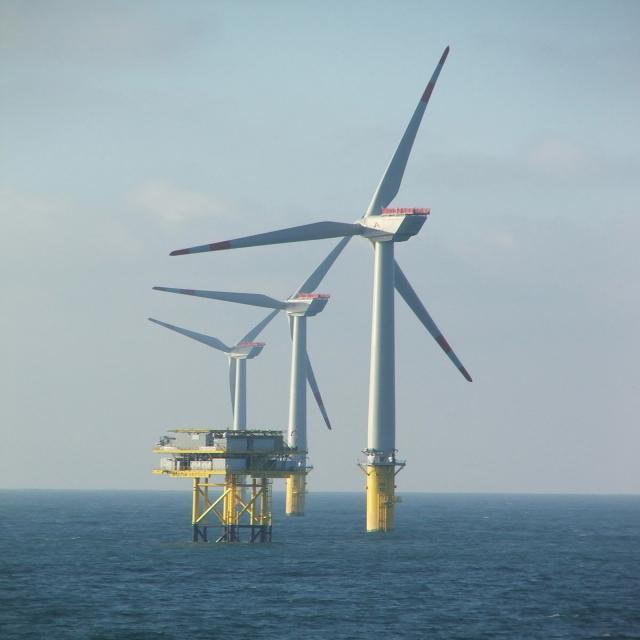solid-blade: (366, 46, 448, 217), (394, 261, 472, 381), (170, 221, 365, 256), (154, 288, 288, 309), (149, 318, 231, 352), (307, 354, 331, 429)
wind-turbine: (170, 48, 471, 531), (154, 236, 349, 461)
